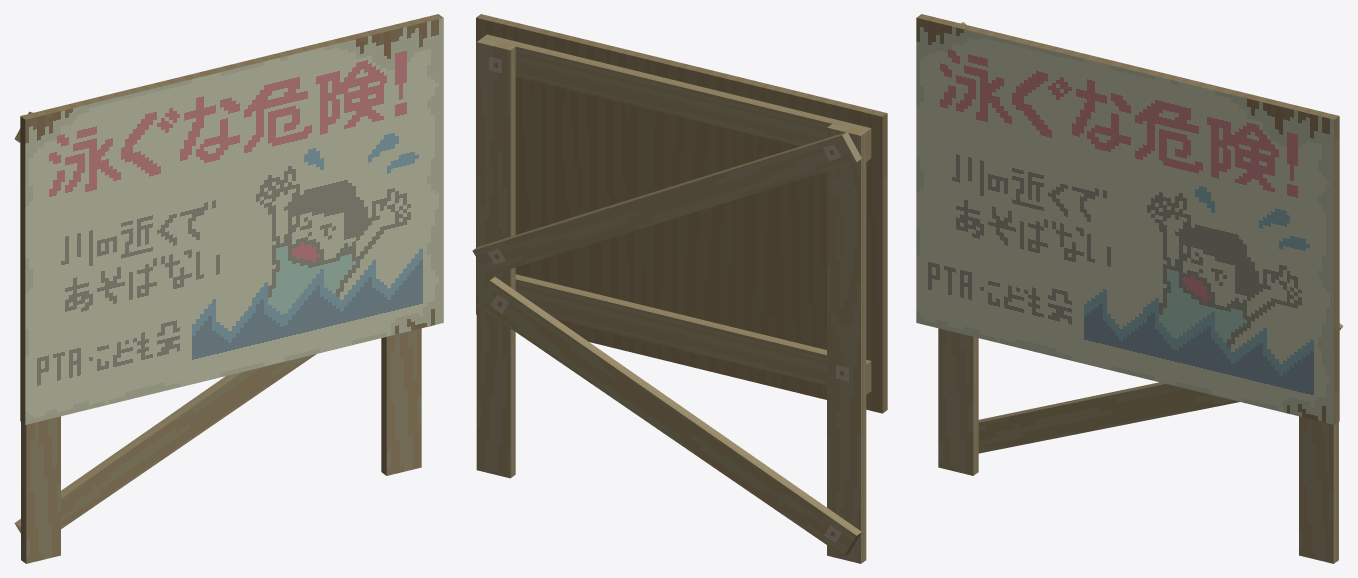
The model's file is 018c_No_Swimming_Sign.glb.
The picture shows the model from 3 angles, left to right: view 1: azimuth 30°, elevation 25°; view 2: azimuth 150°, elevation 25°; view 3: azimuth 330°, elevation 25°; orthographic projection. The views are drawn at different scales.
Parts seen in each view (by area): view 1: part_0; view 2: part_0; view 3: part_0.
Boxes of the visible parts, bbox=[...] form: part_0: bbox=[14, 14, 443, 563]; part_0: bbox=[472, 14, 887, 563]; part_0: bbox=[916, 14, 1342, 563].
Size of the model in its own units: 1.38 by 1.43 by 0.1225.
Materials: 1 (1 with a texture image).
